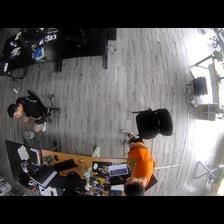normal: (113, 125, 154, 195), (7, 86, 56, 138)
